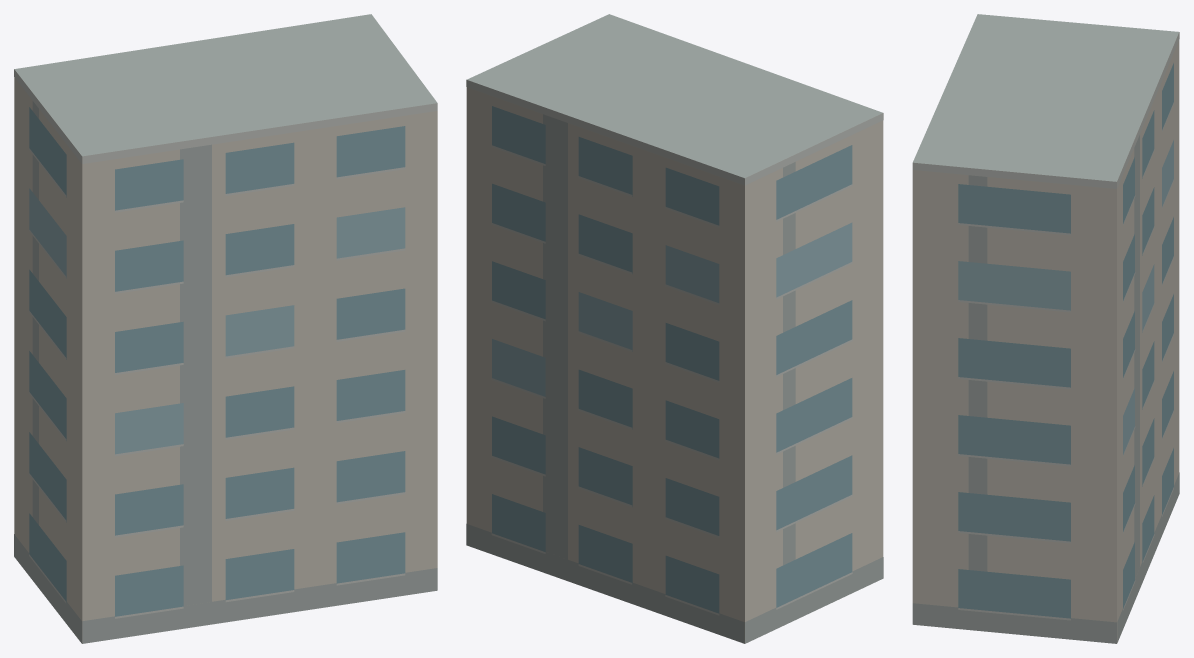
Rendered from survey-upis-32796784.glb.
3 views of the same model, side by side, from view 1: azimuth 30°, elevation 25°; view 2: azimuth 150°, elevation 25°; view 3: azimuth 270°, elevation 25° (orthographic). The views are drawn at different scales.
Parts seen in each view (by area): view 1: survey-upis-32796784.tmp; view 2: survey-upis-32796784.tmp; view 3: survey-upis-32796784.tmp.
Part boxes in pixels (x1,y1,x2,y2): survey-upis-32796784.tmp: (14, 14, 437, 643); survey-upis-32796784.tmp: (466, 14, 883, 643); survey-upis-32796784.tmp: (912, 14, 1179, 643).
Bounding box in the file's own units: 12.01 × 15.4 × 8.07.
